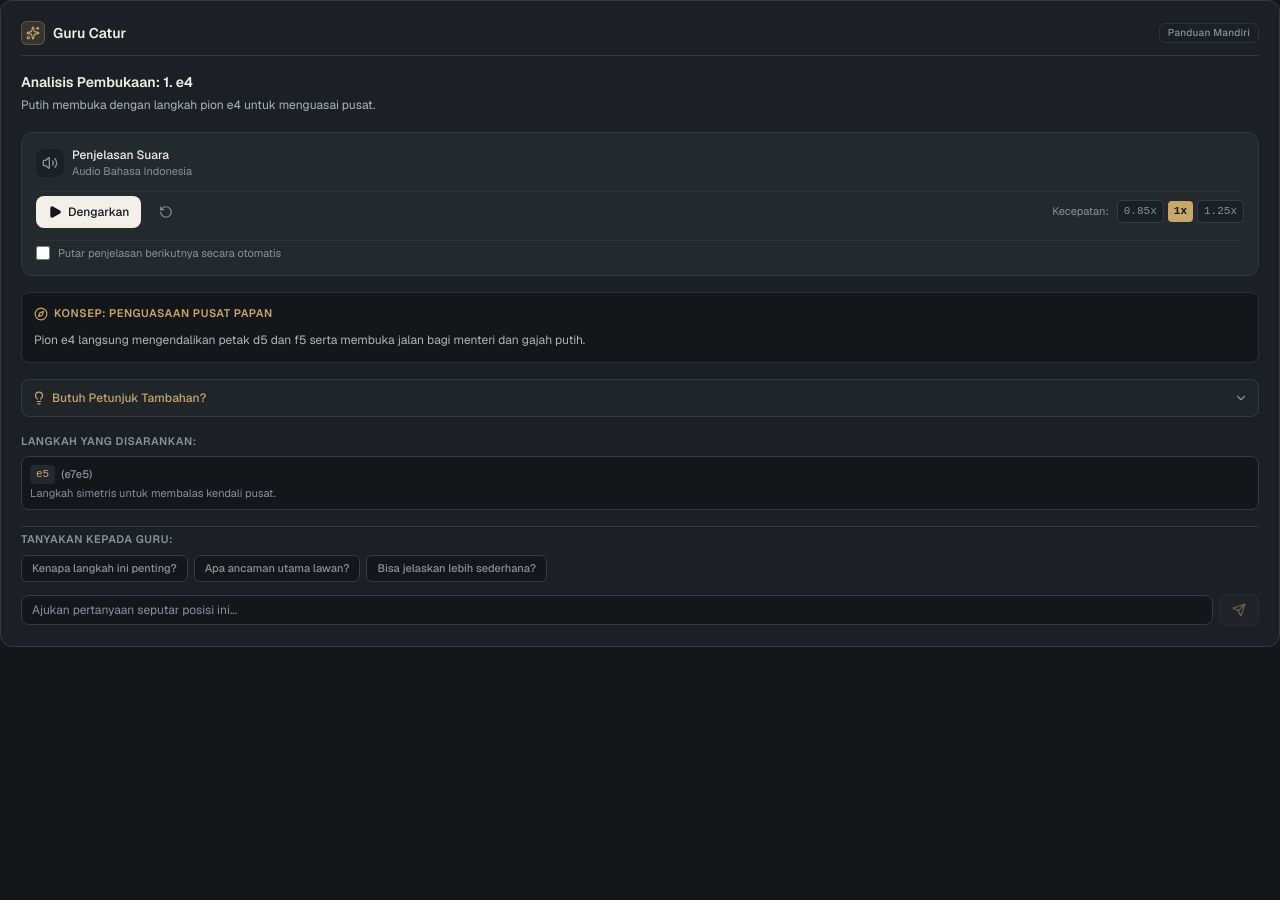
Scenario: Tutor UI Components › submits question when clicking 'Kenapa langkah ini penting?' chip and shows Q&A banner
Click the button "Kenapa langkah ini penting?".
click(104, 568)  # box [21,555,188,582]
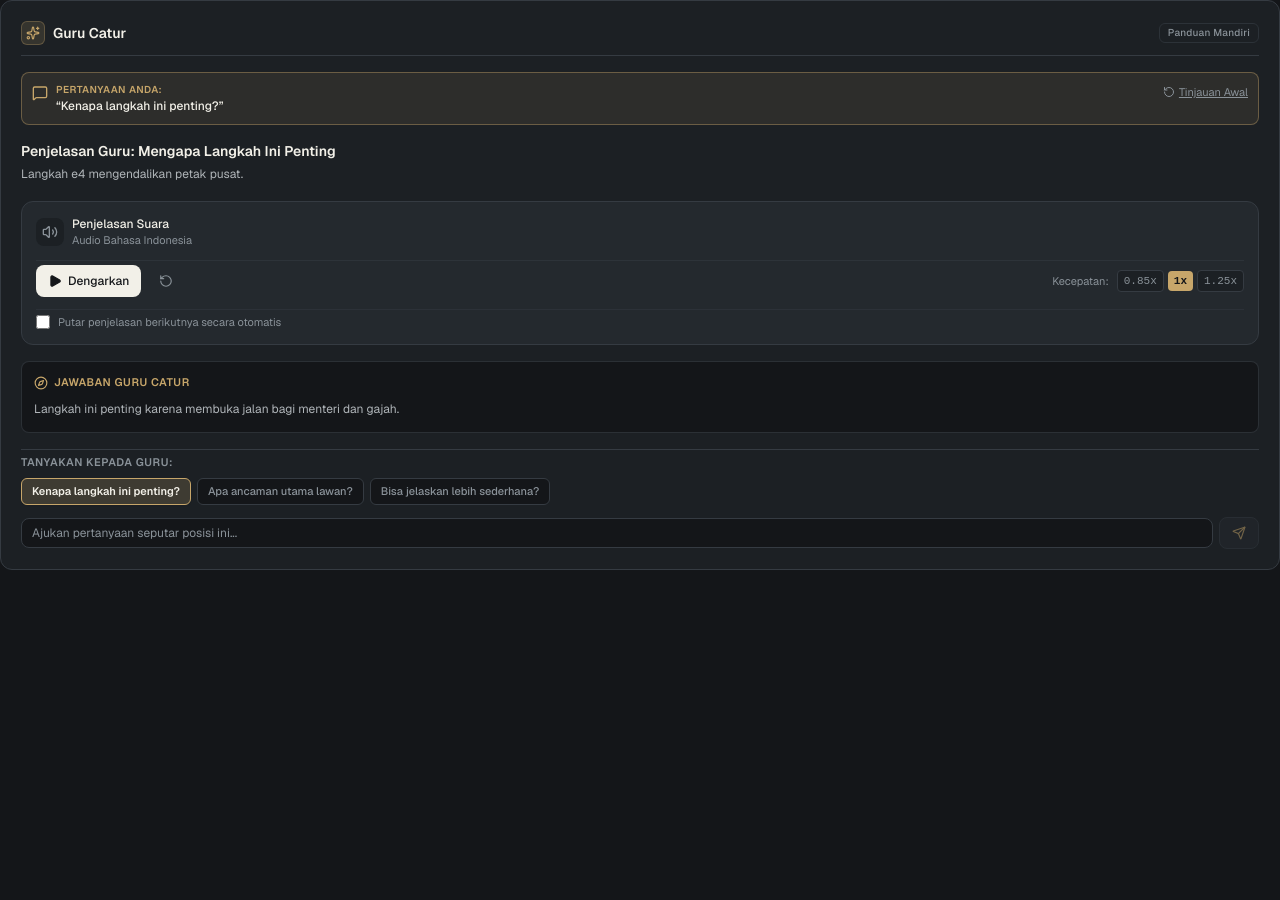
Expected: the text "Pertanyaan Anda:" is shown, [56,83,162,96]
Expected: the heading "Penjelasan Guru: Mengapa Langkah Ini Penting" is shown, [21,142,336,160]
